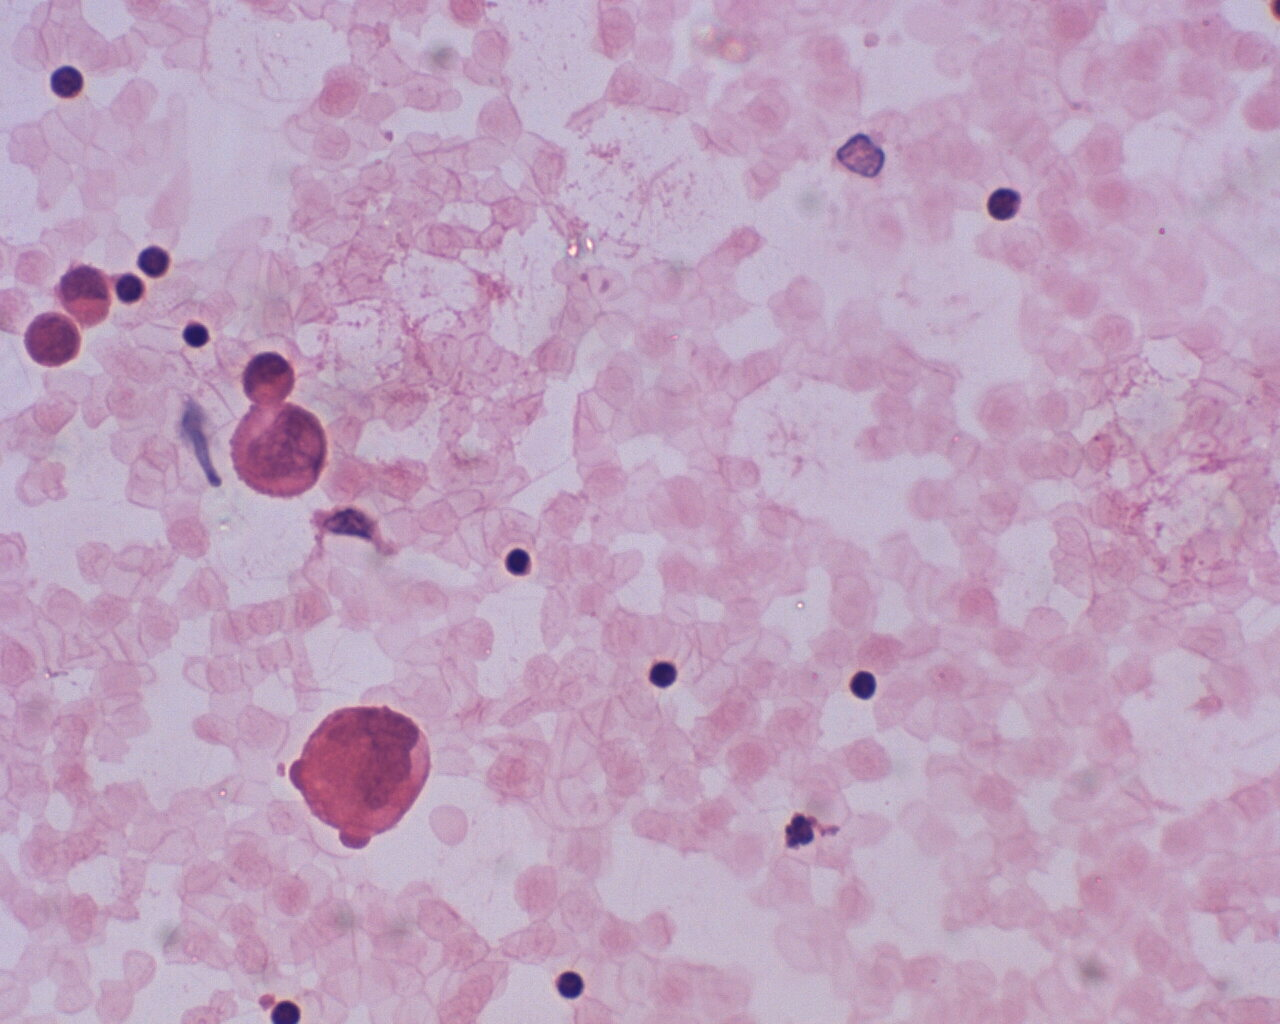ab: (290, 696, 437, 858), (222, 400, 335, 501), (18, 311, 89, 371)
lymph: (548, 967, 599, 1007), (176, 315, 222, 359), (841, 661, 883, 709), (641, 652, 681, 699), (109, 266, 150, 311), (501, 538, 537, 587), (51, 59, 87, 106)
